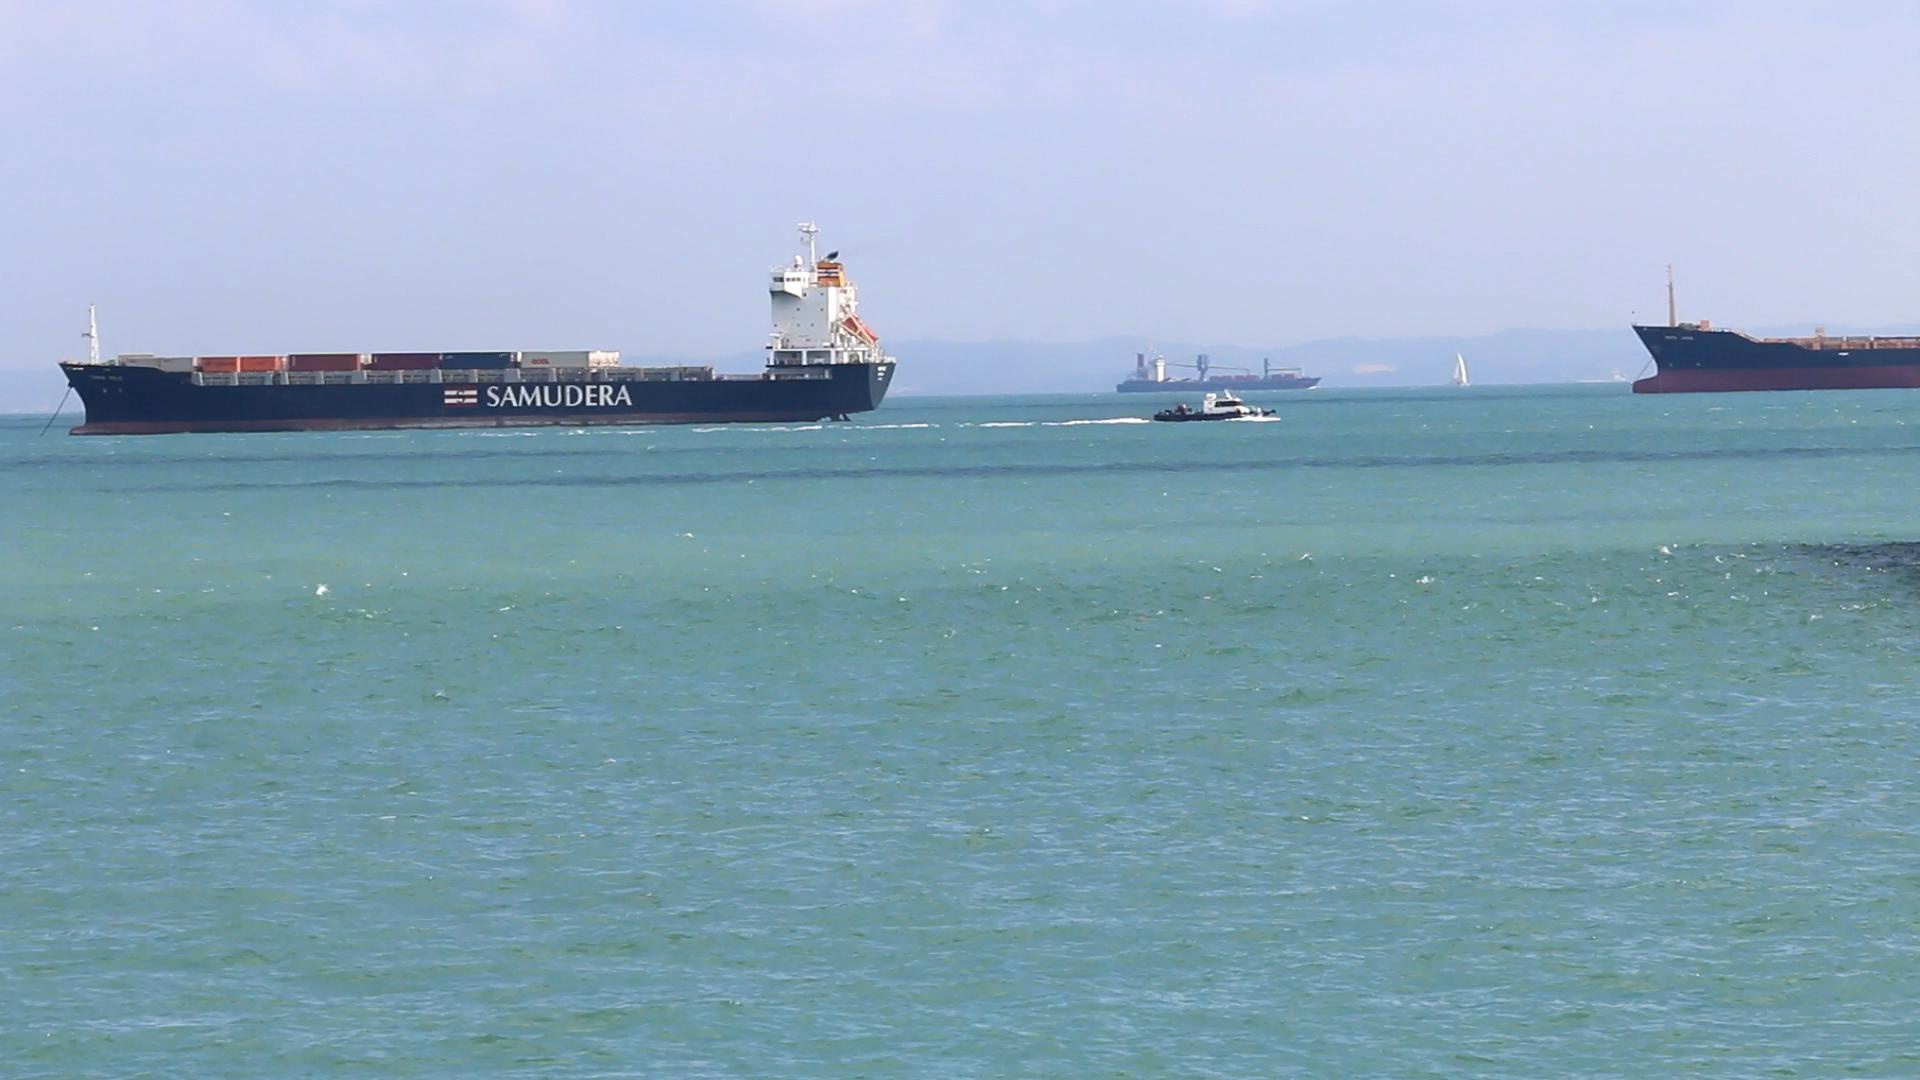Container Ship: (58, 222, 898, 438), (1633, 260, 1920, 394), (1114, 348, 1325, 396)
